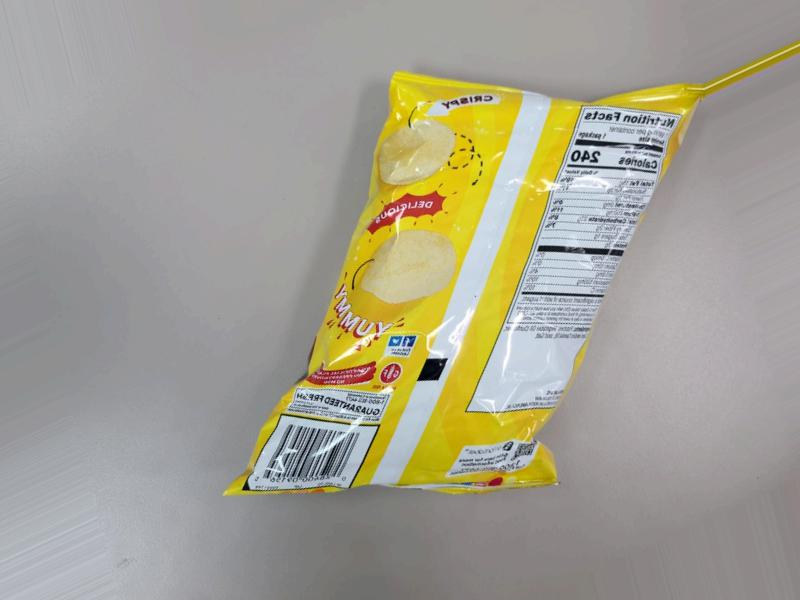lays: (272, 0, 700, 540)
